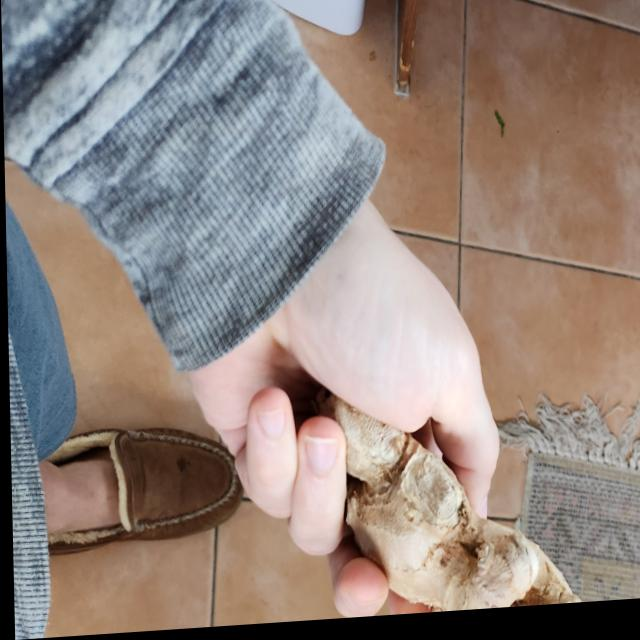ginger: (330, 404, 600, 623)
